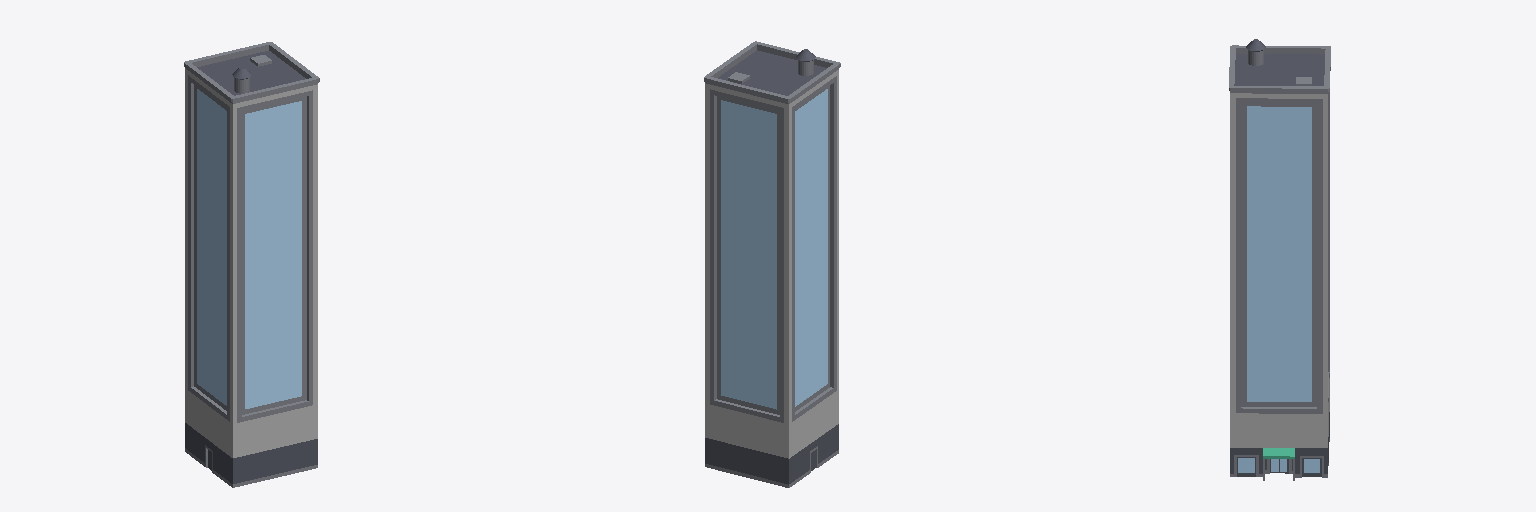
Rendered from buildingT1.obj.
3 renders of one model, left to right at view 1: azimuth 30°, elevation 25°; view 2: azimuth 150°, elevation 25°; view 3: azimuth 270°, elevation 25°, orthographic.
Parts seen in each view (by area): view 1: skyscraperD; view 2: skyscraperD; view 3: skyscraperD.
Part boxes in pixels (x1,y1,x2,y2): skyscraperD: (184,42,319,487); skyscraperD: (704,41,840,487); skyscraperD: (1229,39,1330,480).
Bounding box in the file's own units: 1.11 × 4.43 × 1.02.